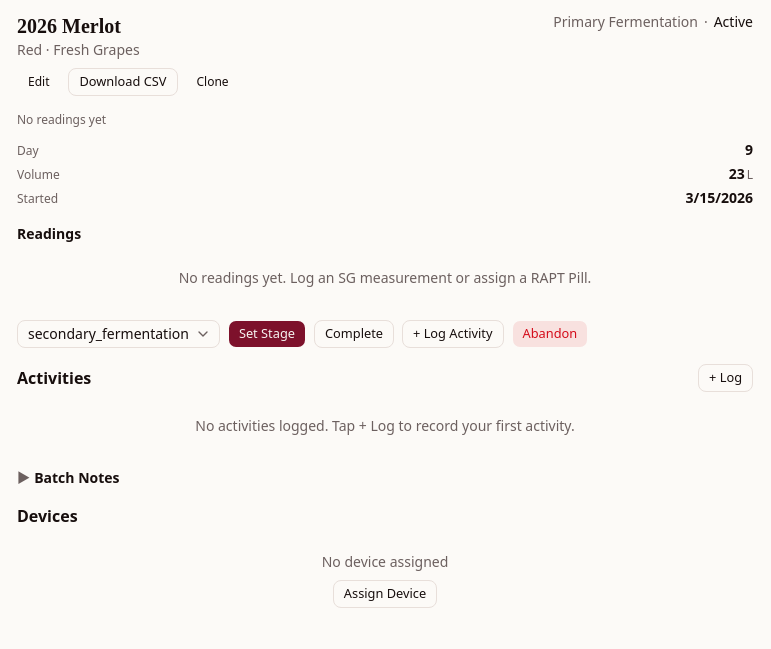
BatchDetail page › notes expand/collapse behavior
The width and height of the screenshot is (771, 649).
Expected: the text "This is a great batch of wine" is not shown
// Click to expand
Click the button "▶ Batch Notes": [77, 478] box [17,468,753,488]
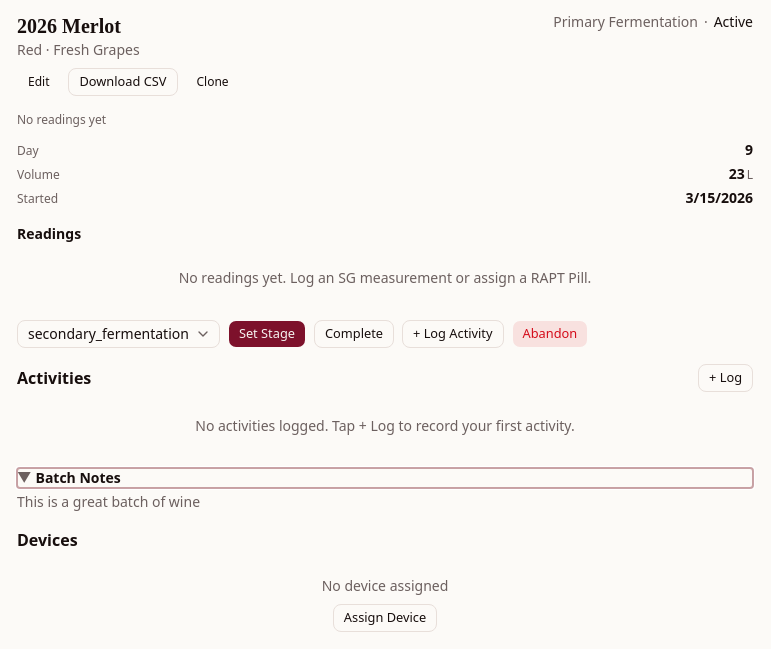
Now the text "This is a great batch of wine" is shown, box [17,492,200,511]
// Click to collapse
Click the button "▼ Batch Notes": [78, 478] box [17,468,753,488]
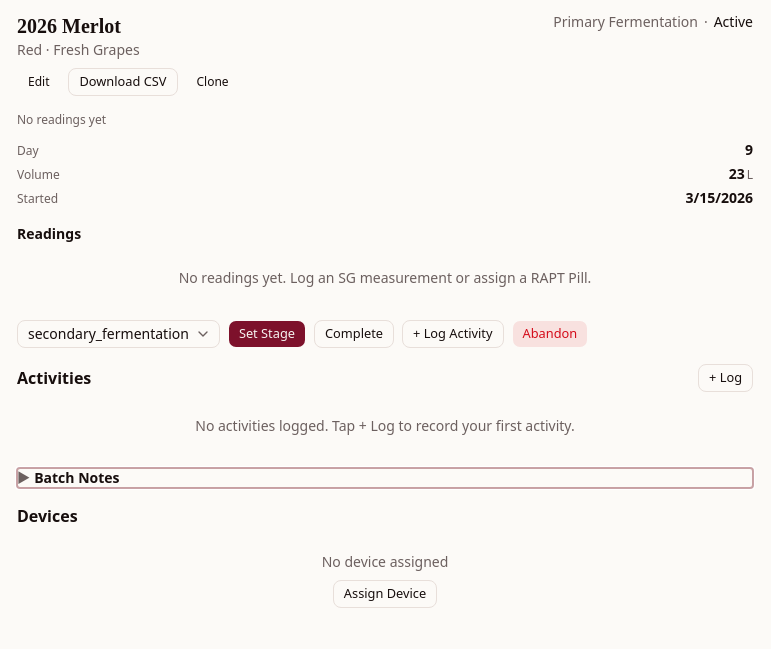
Now the text "This is a great batch of wine" is gone
